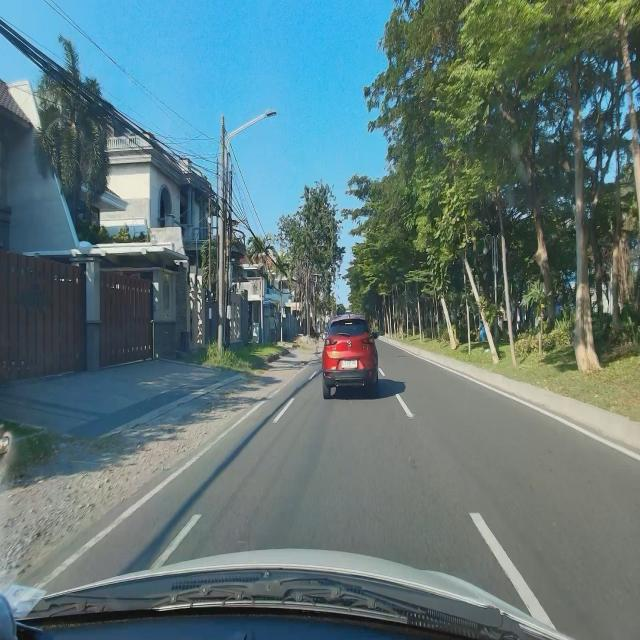car: (322, 313, 379, 400)
license-plate: (341, 358, 358, 369)
